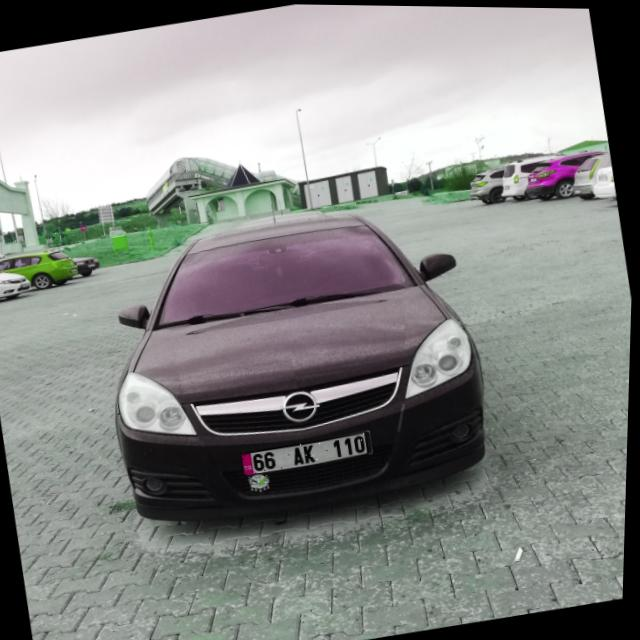license_plate: (244, 429, 375, 474)
